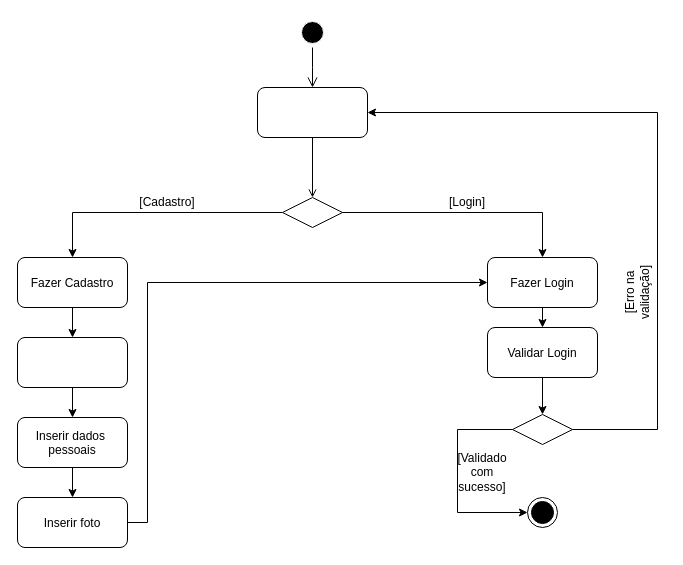
Image size: 683x565. Some labels were removed from this diagram. The shapes that lost their labels are listed below. From the top down, each one's box as (x1, y1, x2, y2) in pixels, then its label:
(256, 86, 368, 138): Escolher entre fazer login ou cadastro
(16, 336, 128, 388): Inserir e-mail e senha
